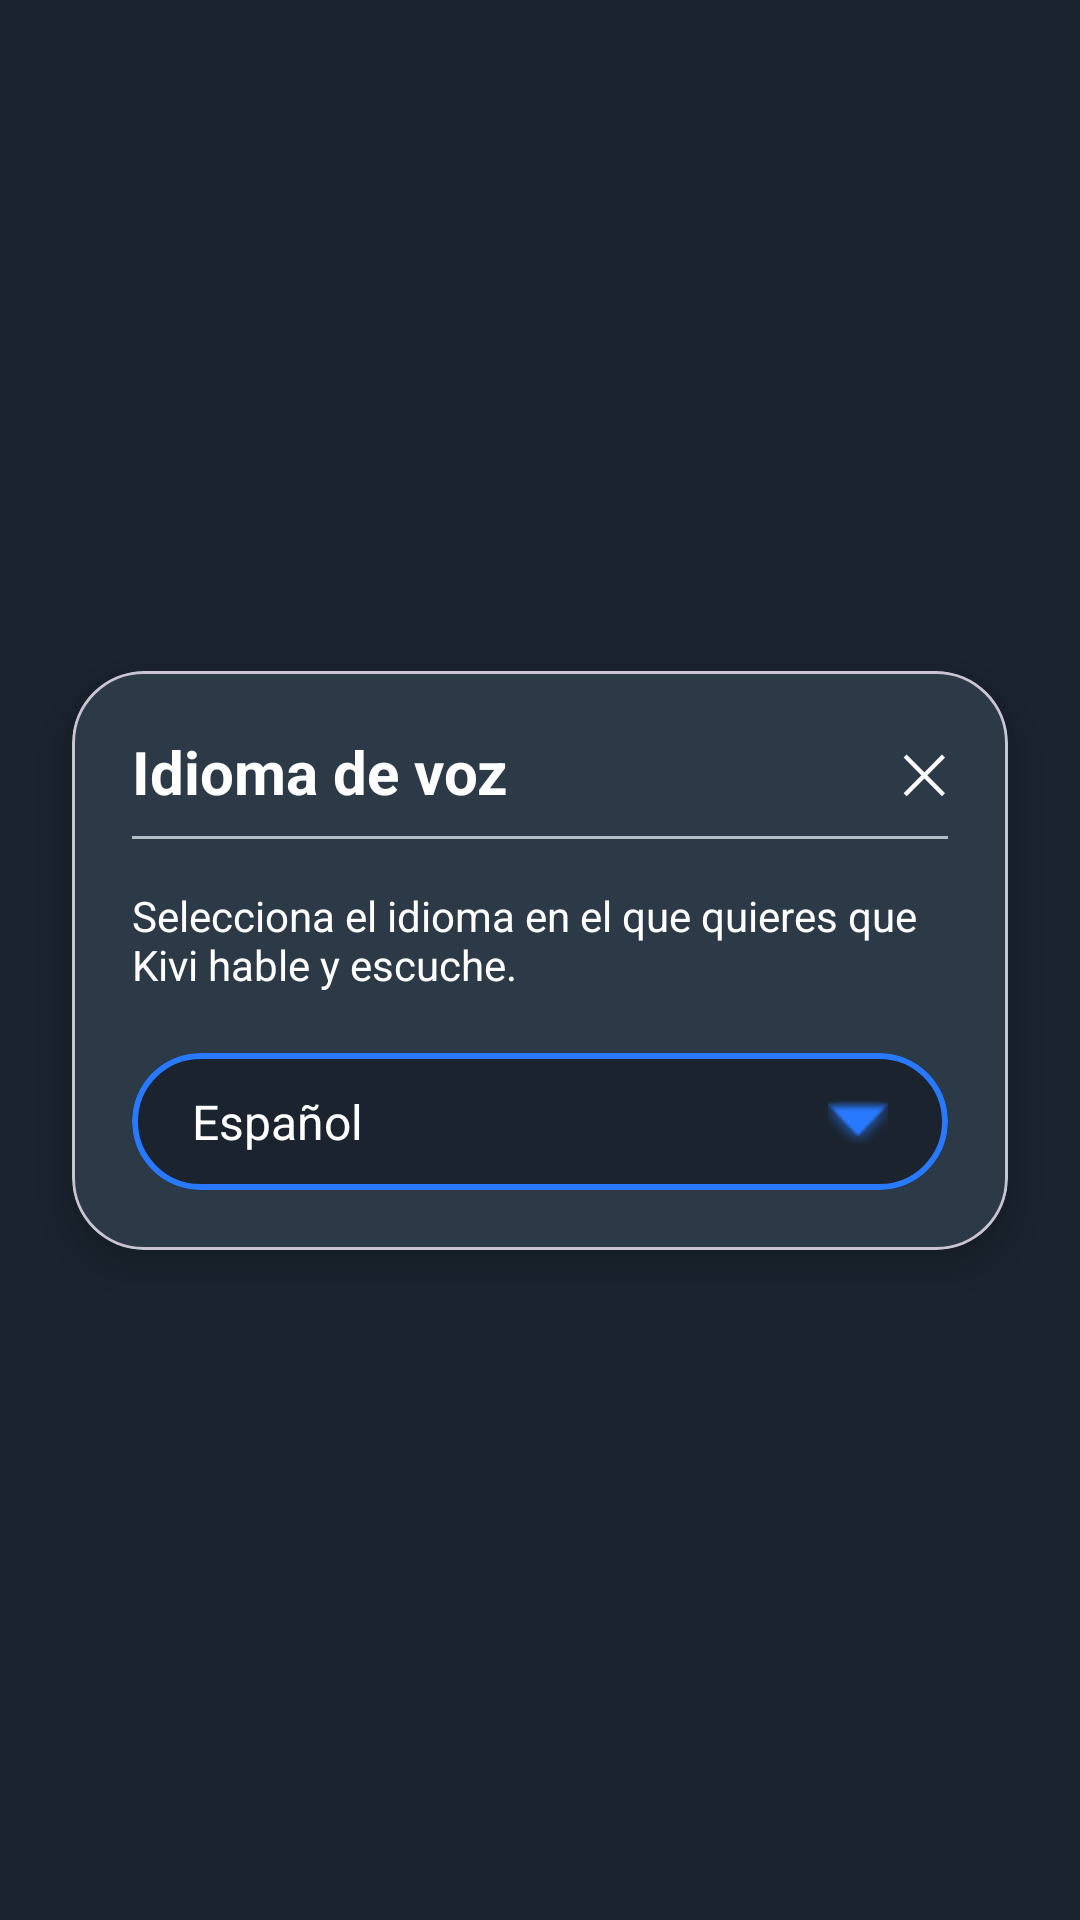

Where icons sit on this 1080px x 1920px app screen, as bbox=[x1, y1, x2, y2]:
arrow down float: bbox=[828, 1102, 888, 1141]
